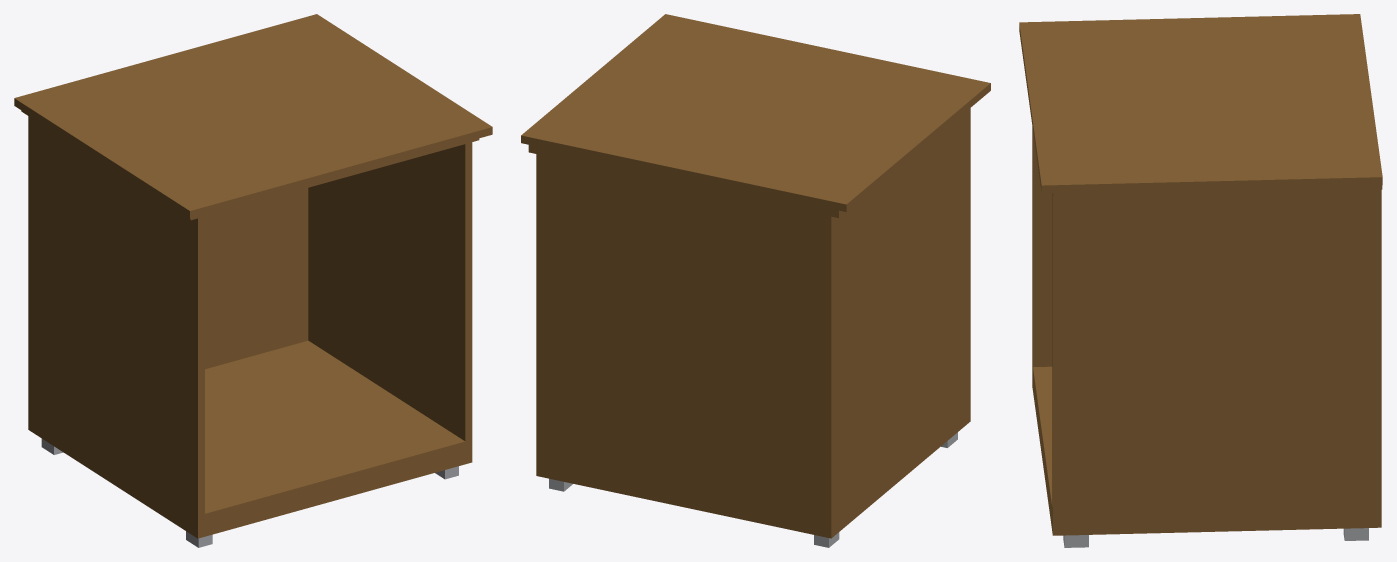
The model's file is malatumba.002_0_lev1_lev3.glb.
3 renders of one model, left to right at view 1: azimuth 30°, elevation 25°; view 2: azimuth 150°, elevation 25°; view 3: azimuth 270°, elevation 25°, orthographic. The views are drawn at different scales.
Parts seen in each view (by area): view 1: malatumba.002_0_lev1_lev3; view 2: malatumba.002_0_lev1_lev3; view 3: malatumba.002_0_lev1_lev3.
Boxes of the visible parts, x1,y1,x2,y2 form: malatumba.002_0_lev1_lev3: (14, 14, 492, 547); malatumba.002_0_lev1_lev3: (521, 14, 990, 547); malatumba.002_0_lev1_lev3: (1019, 14, 1382, 547).
Bounding box in the file's own units: 1.89 × 1.92 × 1.69.
1 material, 1 textured.
